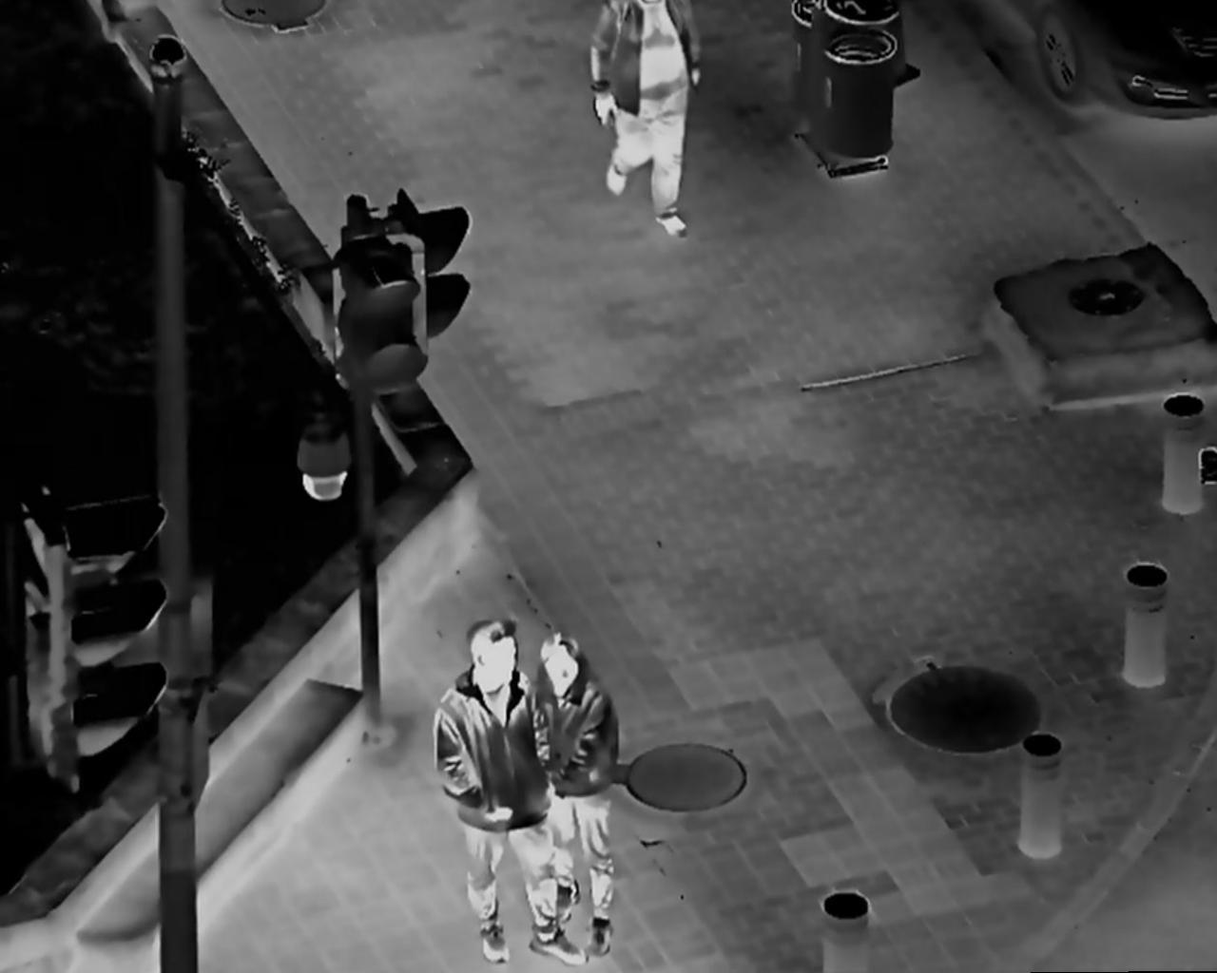person: (429, 609, 592, 972), (511, 628, 641, 963)
